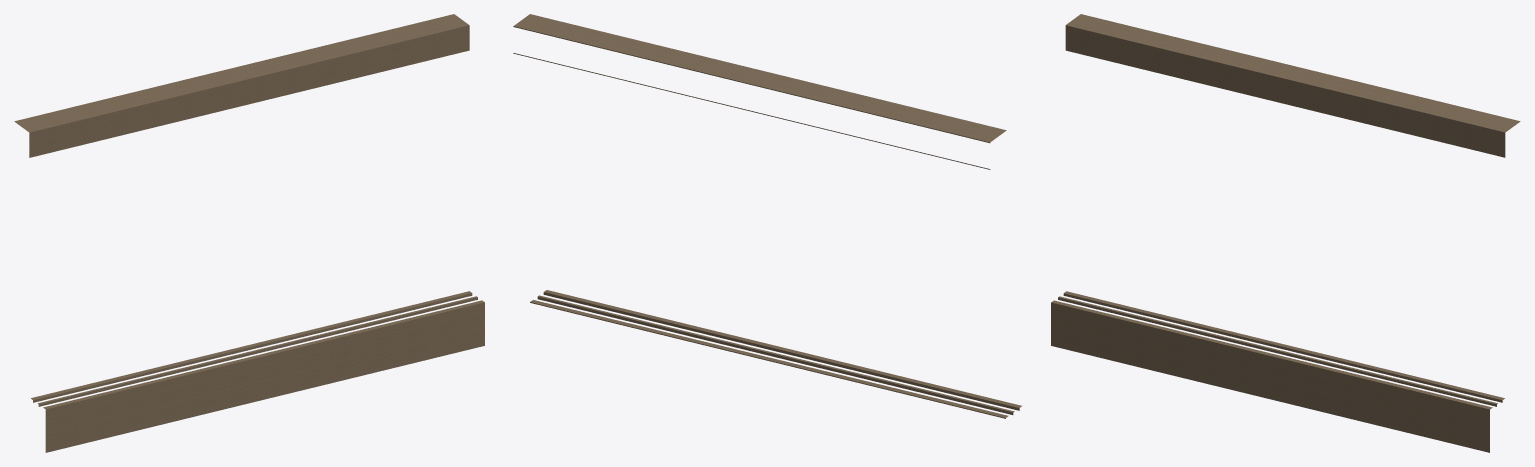
File: kd_stage_135ded_4_1_bounded.glb
3 renders of one model, left to right at view 1: azimuth 30°, elevation 25°; view 2: azimuth 150°, elevation 25°; view 3: azimuth 330°, elevation 25°, orthographic. The views are drawn at different scales.
Parts seen in each view (by area): view 1: kd_stage_135ded_4_1_bounded; view 2: kd_stage_135ded_4_1_bounded; view 3: kd_stage_135ded_4_1_bounded.
Boxes of the visible parts, <box> form: kd_stage_135ded_4_1_bounded: <box>14,14,484,452</box>; kd_stage_135ded_4_1_bounded: <box>513,14,1021,418</box>; kd_stage_135ded_4_1_bounded: <box>1051,14,1520,452</box>.
Size of the model in its own units: 1.82 by 1.22 by 0.22.
Materials: 1 (1 with a texture image).
